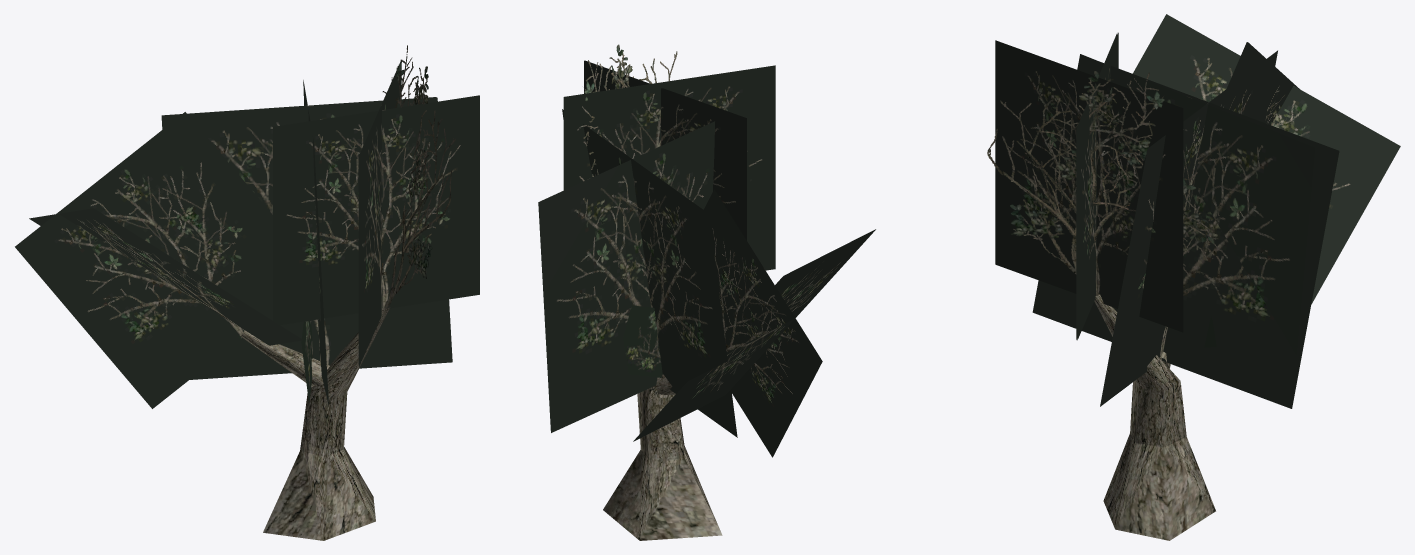
File: mtns_shrb_gnarled_a3_l0.fbx
3 renders of one model, left to right at view 1: azimuth 30°, elevation 25°; view 2: azimuth 150°, elevation 25°; view 3: azimuth 270°, elevation 25°, orthographic. The views are drawn at different scales.
Visible parts, largest first — view 1: mesh_node; view 2: mesh_node; view 3: mesh_node.
Boxes of the visible parts, bbox=[...] form: mesh_node: bbox=[15, 45, 479, 540]; mesh_node: bbox=[538, 44, 875, 540]; mesh_node: bbox=[987, 14, 1400, 540].
Size of the model in its own units: 0.8675 by 1.11 by 0.9839.
